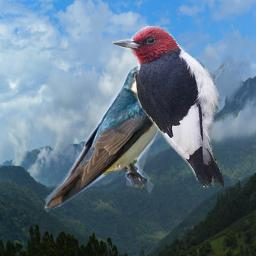Swallow: (40, 58, 168, 212)
Woodpecker: (112, 26, 224, 188)
